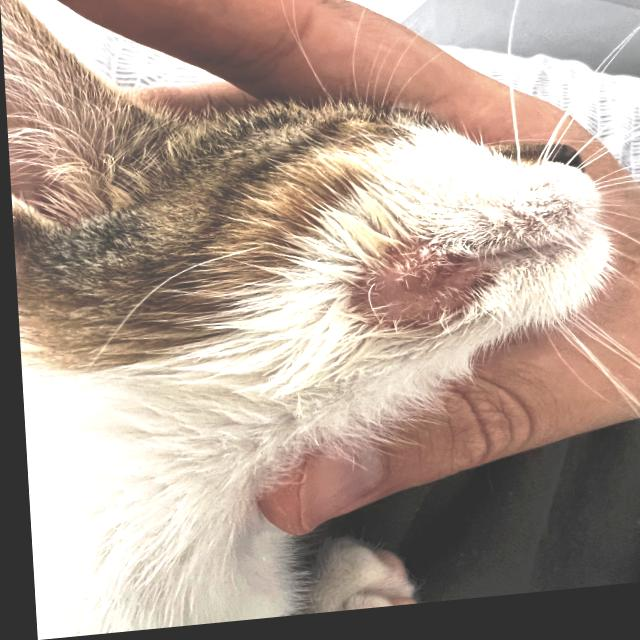ringworm: (354, 260, 498, 329)
